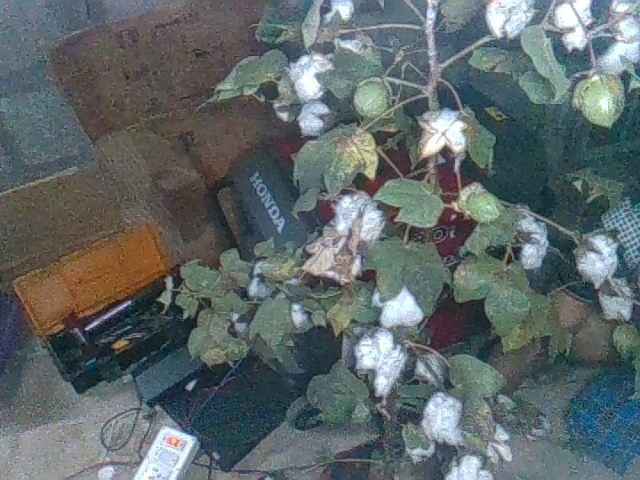cotton: (349, 325, 409, 398), (324, 189, 389, 247), (594, 1, 639, 76), (569, 230, 626, 288), (420, 388, 474, 449), (415, 107, 475, 161), (369, 280, 428, 331), (513, 205, 551, 275), (547, 1, 597, 54), (285, 52, 333, 103), (486, 1, 540, 44), (290, 100, 333, 144), (442, 451, 502, 480), (598, 278, 635, 323), (317, 1, 358, 24), (332, 35, 365, 56)
